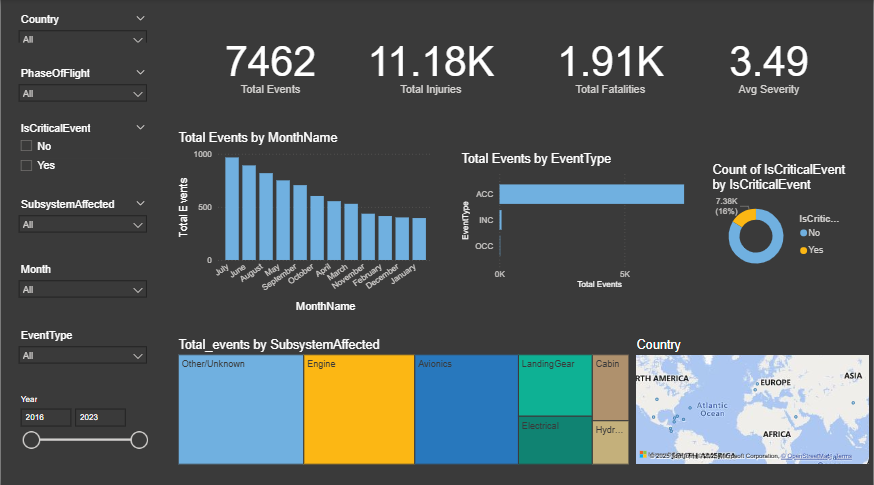

This screenshot's page, from the dashboard's own definition file:
{"tool":"powerbi","page":{"name":"Executive Summary","canvas":[1280,720],"ordinal":0},"visuals":[{"type":"card","fields":{"Values":["FactSafetyEvent.Avg Severity"]},"box":[1040,16,176,160],"z":0},{"type":"card","fields":{"Values":["FactSafetyEvent.Total Events"]},"box":[288,24,216,144],"z":1000},{"type":"card","fields":{"Values":["FactSafetyEvent.Total Injuries"]},"box":[528,16,208,160],"z":2000},{"type":"card","fields":{"Values":["FactSafetyEvent.Total Fatalities"]},"box":[800,16,192,160],"z":3000},{"type":"clusteredColumnChart","fields":{"Category":["DimDate.MonthName"],"Y":["FactSafetyEvent.Total Events"]},"box":[256,192,384,272],"z":4000},{"type":"clusteredBarChart","fields":{"Category":["DimEventType.EventType"],"Y":["FactSafetyEvent.Total Events"]},"box":[672,224,368,208],"z":5000},{"type":"treemap","fields":{"Group":["source_file.SubsystemAffected"],"Values":["source_file.Total_events"]},"box":[256,496,672,192],"z":6000},{"type":"donutChart","fields":{"Category":["source_file.IsCriticalEvent"],"Y":["CountNonNull(source_file.IsCriticalEvent)"]},"box":[1040,240,208,176],"z":7000},{"type":"slicer","fields":{"Values":["source_file.Country"]},"box":[16,16,208,48],"z":8000},{"type":"slicer","fields":{"Values":["source_file.PhaseOfFlight"]},"box":[16,96,208,80],"z":9000},{"type":"slicer","fields":{"Values":["source_file.IsCriticalEvent"]},"box":[16,176,208,112],"z":10000},{"type":"slicer","fields":{"Values":["source_file.SubsystemAffected"]},"box":[16,288,208,64],"z":11000},{"type":"slicer","fields":{"Values":["FactSafetyEvent.CreatedAt.Variation.Date Hierarchy.Month"]},"box":[16,384,208,80],"z":12000},{"type":"slicer","fields":{"Values":["source_file.EventDate.Variation.Date Hierarchy.Year"]},"box":[16,576,208,112],"z":13000},{"type":"slicer","fields":{"Values":["source_file.EventType"]},"box":[16,480,208,64],"z":14000},{"type":"map","fields":{"Category":["DimLocation.Country"]},"box":[928,496,352,192],"z":15000}]}

Visuals, with their boxes in screenshot pixels (x1, y1, x2, y2), scaled from the page's 1280x720 canvas onto the 874x485 screenshot:
card - FactSafetyEvent.Avg Severity: 710 11 830 119
card - FactSafetyEvent.Total Events: 197 16 344 113
card - FactSafetyEvent.Total Injuries: 361 11 503 119
card - FactSafetyEvent.Total Fatalities: 546 11 677 119
clusteredColumnChart - DimDate.MonthName x FactSafetyEvent.Total Events: 175 129 437 313
clusteredBarChart - DimEventType.EventType x FactSafetyEvent.Total Events: 459 151 710 291
treemap - source_file.SubsystemAffected x source_file.Total_events: 175 334 634 463
donutChart - source_file.IsCriticalEvent x CountNonNull(source_file.IsCriticalEvent): 710 162 852 280
slicer - source_file.Country: 11 11 153 43
slicer - source_file.PhaseOfFlight: 11 65 153 119
slicer - source_file.IsCriticalEvent: 11 119 153 194
slicer - source_file.SubsystemAffected: 11 194 153 237
slicer - FactSafetyEvent.CreatedAt.Variation.Date Hierarchy.Month: 11 259 153 313
slicer - source_file.EventDate.Variation.Date Hierarchy.Year: 11 388 153 463
slicer - source_file.EventType: 11 323 153 366
map - DimLocation.Country: 634 334 873 463
